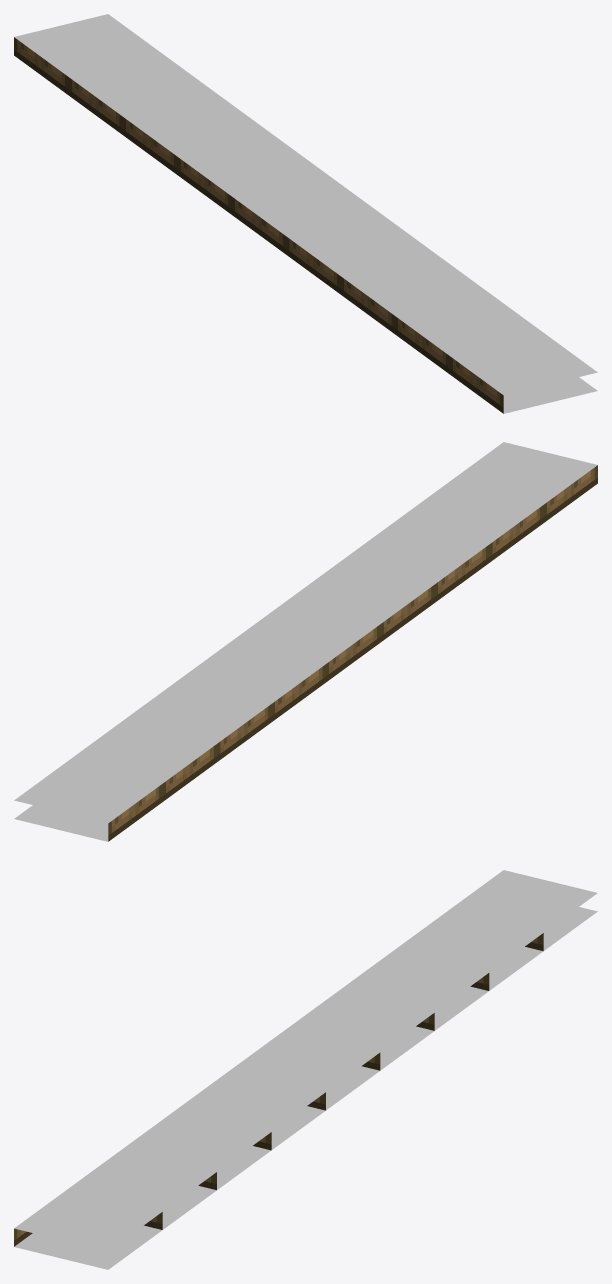
Rendered from trapdoor_combined_7a_lod0.fbx.
3 views of the same model, one above another, from view 1: azimuth 30°, elevation 25°; view 2: azimuth 150°, elevation 25°; view 3: azimuth 330°, elevation 25° (orthographic).
Parts seen in each view (by area): view 1: mesh_7524, mesh_7536, mesh_7539, mesh_7535, mesh_7520, mesh_7516, mesh_7537, mesh_7538, mesh_7540; view 2: mesh_7516, mesh_7539, mesh_7536, mesh_7520, mesh_7538, mesh_7540, mesh_7524, mesh_7537, mesh_7535; view 3: mesh_7524, mesh_7540, mesh_7538, mesh_7535, mesh_7536, mesh_7539, mesh_7537, mesh_7520, mesh_7516.
Part boxes in pixels (box(x1,y1,x2,y2)): mesh_7524: box(449, 332, 597, 413); mesh_7536: box(122, 93, 270, 174); mesh_7539: box(340, 253, 488, 333); mesh_7535: box(177, 133, 325, 214); mesh_7520: box(231, 173, 379, 254); mesh_7516: box(14, 14, 162, 94); mesh_7537: box(68, 54, 216, 134); mesh_7538: box(286, 213, 434, 293); mesh_7540: box(395, 293, 542, 373); mesh_7516: box(14, 760, 162, 841); mesh_7539: box(341, 521, 489, 602); mesh_7536: box(123, 681, 271, 761); mesh_7520: box(232, 601, 380, 682); mesh_7538: box(286, 561, 434, 642); mesh_7540: box(395, 482, 543, 562); mesh_7524: box(449, 442, 597, 522); mesh_7537: box(69, 721, 216, 801); mesh_7535: box(177, 641, 325, 721); mesh_7524: box(14, 1188, 162, 1269); mesh_7540: box(69, 1149, 216, 1229); mesh_7538: box(177, 1069, 325, 1150); mesh_7535: box(286, 989, 434, 1070); mesh_7536: box(341, 949, 489, 1030); mesh_7539: box(123, 1109, 271, 1190); mesh_7537: box(395, 910, 543, 990); mesh_7520: box(232, 1029, 380, 1110); mesh_7516: box(449, 870, 597, 951).
Size of the model in its own units: 40 by 7.5 by 360.
